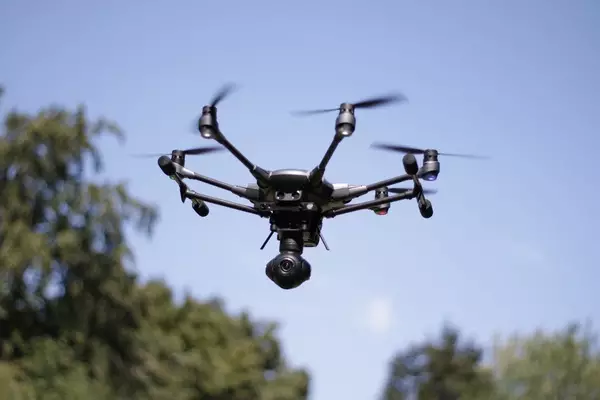drone: (127, 79, 491, 291)
